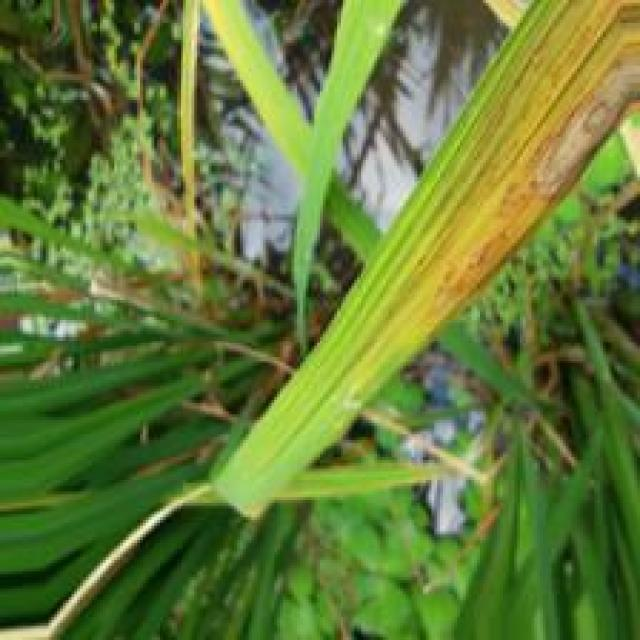Leaf_Scald: (419, 0, 640, 339)
